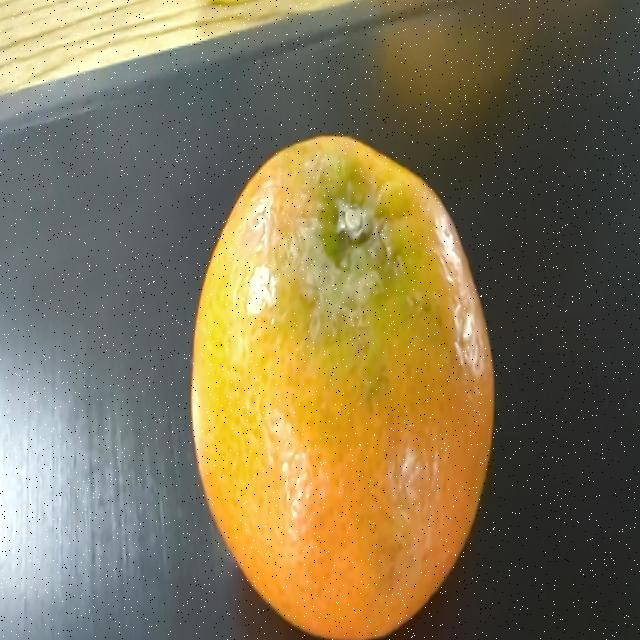Jeruk Mandarin: (195, 130, 500, 640)
